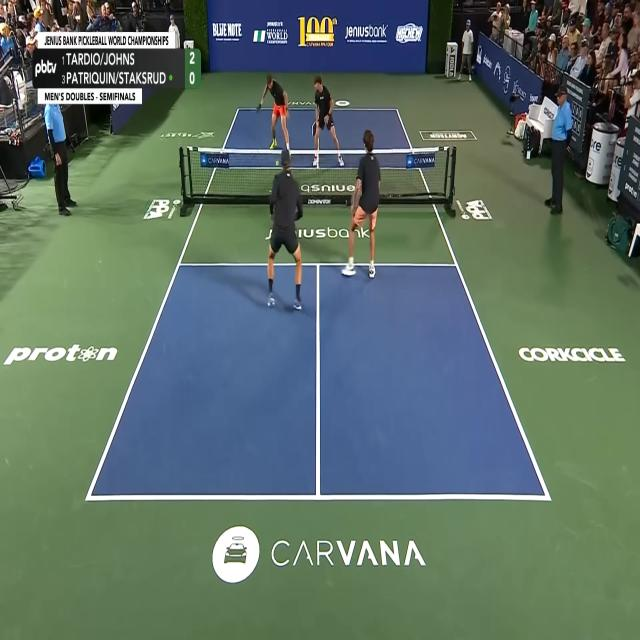ball: (275, 161, 279, 166)
